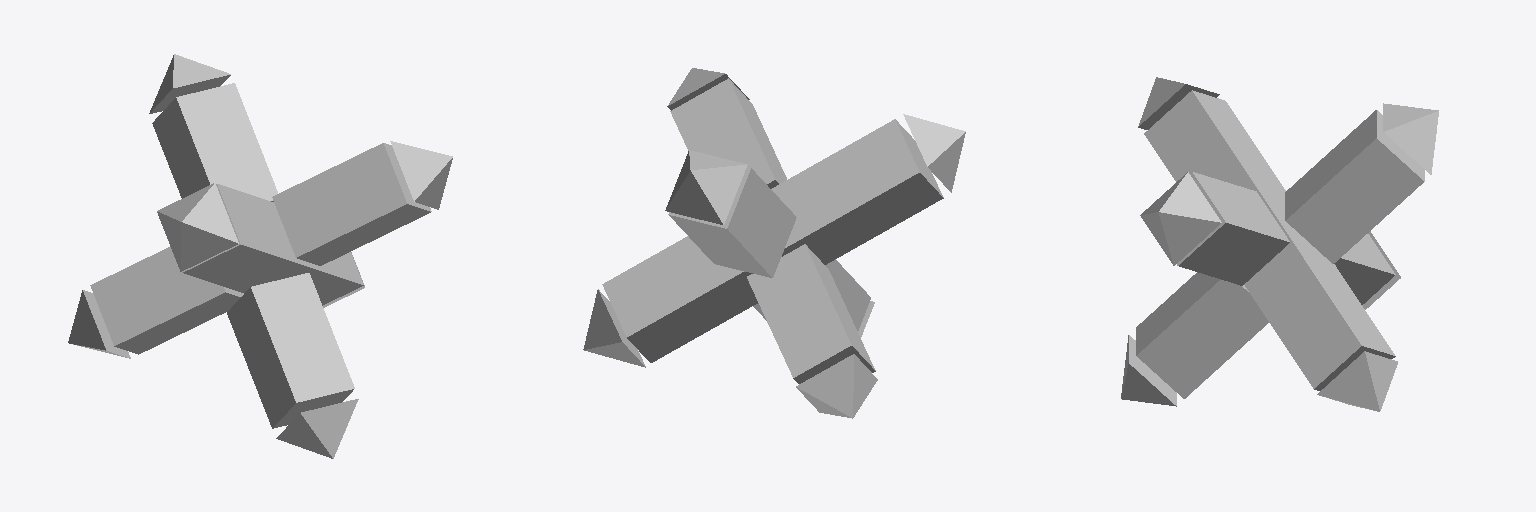
Rendered from SM_fence.obj.
3 views of the same model, side by side, from view 1: azimuth 30°, elevation 25°; view 2: azimuth 150°, elevation 25°; view 3: azimuth 270°, elevation 25° (orthographic).
Visible parts, largest first — view 1: obstacle; view 2: obstacle; view 3: obstacle.
Part boxes in pixels (x1,y1,x2,y2): obstacle: (68, 54, 452, 458); obstacle: (583, 68, 965, 418); obstacle: (1121, 77, 1438, 411).
Bounding box in the file's own units: 1.86 × 1.87 × 1.87.